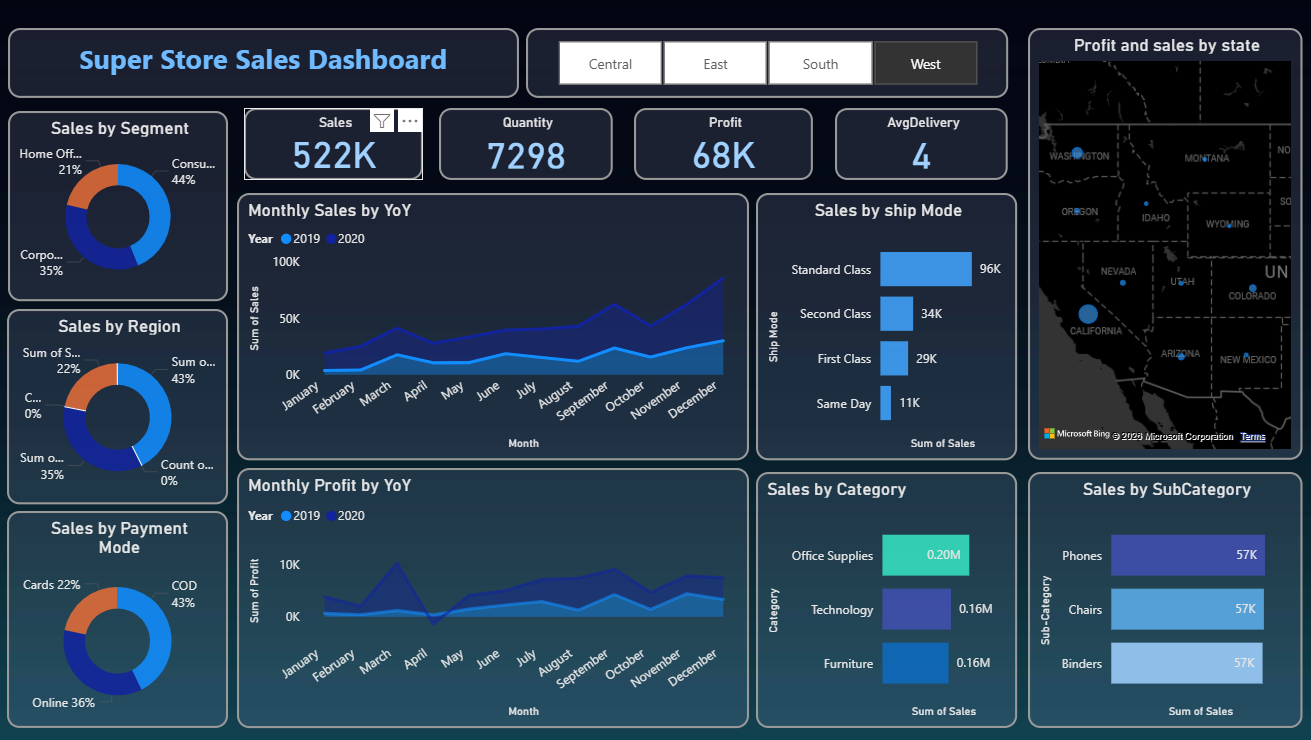

What the dashboard file says about the page in this screenshot:
{"tool":"powerbi","page":{"name":"Page 1","canvas":[1280,720],"ordinal":0},"visuals":[{"type":"clusteredBarChart","title":" Sales by Category","fields":{"Category":["SuperStore_Sales_Dataset (1).Category"],"Y":["Sum(SuperStore_Sales_Dataset (1).Sales)"]},"box":[736.3,459.1,253.9,249],"z":0},{"type":"clusteredBarChart","title":" Sales by ship Mode","fields":{"Category":["SuperStore_Sales_Dataset (1).Ship Mode"],"Y":["Sum(SuperStore_Sales_Dataset (1).Sales)"]},"box":[736.3,187.7,253.9,259.7],"z":1000},{"type":"stackedAreaChart","title":"Monthly Sales by YoY","fields":{"Y":["Sum(SuperStore_Sales_Dataset (1).Sales)"],"Category":["SuperStore_Sales_Dataset (1).Order Date.Variation.Date Hierarchy.Month","SuperStore_Sales_Dataset (1).Order Date.Variation.Date Hierarchy.Day"],"Series":["SuperStore_Sales_Dataset (1).Order Date.Variation.Date Hierarchy.Year"]},"box":[231.5,187.7,498,259.7],"z":2000},{"type":"stackedAreaChart","title":"Monthly Profit by YoY","fields":{"Category":["SuperStore_Sales_Dataset (1).Order Date.Variation.Date Hierarchy.Month","SuperStore_Sales_Dataset (1).Order Date.Variation.Date Hierarchy.Day"],"Series":["SuperStore_Sales_Dataset (1).Order Date.Variation.Date Hierarchy.Year"],"Y":["Sum(SuperStore_Sales_Dataset (1).Profit)"]},"box":[231.5,455.2,498,252.9],"z":3000},{"type":"map","title":"Profit and sales by state","fields":{"Category":["SuperStore_Sales_Dataset (1).State"],"Size":["Sum(SuperStore_Sales_Dataset (1).Sales)"]},"box":[1000.9,27.2,266.5,420.2],"z":4000},{"type":"donutChart","title":" Sales by Segment","fields":{"Category":["SuperStore_Sales_Dataset (1).Segment"],"Y":["Sum(SuperStore_Sales_Dataset (1).Sales)"]},"box":[8.8,108,214,184.8],"z":5000},{"type":"donutChart","title":"Sales by Payment Mode","fields":{"Category":["SuperStore_Sales_Dataset (1).Payment Mode","SuperStore_Sales_Dataset (1).Segment"],"Y":["Sum(SuperStore_Sales_Dataset (1).Sales)"]},"box":[7.8,497,215,211.1],"z":6000},{"type":"slicer","fields":{"Values":["SuperStore_Sales_Dataset (1).Region"]},"box":[512.6,27.2,468.8,68.1],"z":7000},{"type":"textbox","box":[8.8,27.2,497,68.1],"z":8000},{"type":"card","title":"        Sales","fields":{"Values":["Sum(SuperStore_Sales_Dataset (1).Sales)"]},"box":[238.3,105,174.1,70],"z":9000},{"type":"card","title":"        Quantity","fields":{"Values":["Sum(SuperStore_Sales_Dataset (1).Quantity)"]},"box":[428,105,169.2,70],"z":10000},{"type":"card","title":"        Profit","fields":{"Values":["Sum(SuperStore_Sales_Dataset (1).Profit)"]},"box":[617.6,105,174.1,70],"z":11000},{"type":"card","title":"        AvgDelivery","fields":{"Values":["Avg(SuperStore_Sales_Dataset (1).AvgDelivery)"]},"box":[813.1,105,168.3,70],"z":12000},{"type":"clusteredBarChart","title":" Sales by SubCategory","fields":{"Category":["SuperStore_Sales_Dataset (1).Sub-Category","SuperStore_Sales_Dataset (1).Category"],"Y":["Sum(SuperStore_Sales_Dataset (1).Sales)"]},"box":[1000.9,459.1,266.5,249],"z":13000},{"type":"donutChart","title":"Sales by Region","fields":{"Category":["SuperStore_Sales_Dataset (1).Payment Mode","SuperStore_Sales_Dataset (1).Region"],"Y":["Sum(SuperStore_Sales_Dataset (1).Sales)","CountNonNull(SuperStore_Sales_Dataset (1).Region)"]},"box":[7.8,300.5,215,189.7],"z":14000}]}

Visuals, with their boxes in screenshot pixels (x1, y1, x2, y2), scaled from the page's 1280x720 canvas onto the 1311x740 screenshot:
" Sales by Category" clusteredBarChart: bbox=[754, 472, 1014, 728]
" Sales by ship Mode" clusteredBarChart: bbox=[754, 193, 1014, 460]
"Monthly Sales by YoY" stackedAreaChart: bbox=[237, 193, 747, 460]
"Monthly Profit by YoY" stackedAreaChart: bbox=[237, 468, 747, 728]
"Profit and sales by state" map: bbox=[1025, 28, 1298, 460]
" Sales by Segment" donutChart: bbox=[9, 111, 228, 301]
"Sales by Payment Mode" donutChart: bbox=[8, 511, 228, 728]
slicer - SuperStore_Sales_Dataset (1).Region: bbox=[525, 28, 1005, 98]
textbox: bbox=[9, 28, 518, 98]
"        Sales" card: bbox=[244, 108, 422, 180]
"        Quantity" card: bbox=[438, 108, 612, 180]
"        Profit" card: bbox=[633, 108, 811, 180]
"        AvgDelivery" card: bbox=[833, 108, 1005, 180]
" Sales by SubCategory" clusteredBarChart: bbox=[1025, 472, 1298, 728]
"Sales by Region" donutChart: bbox=[8, 309, 228, 504]
